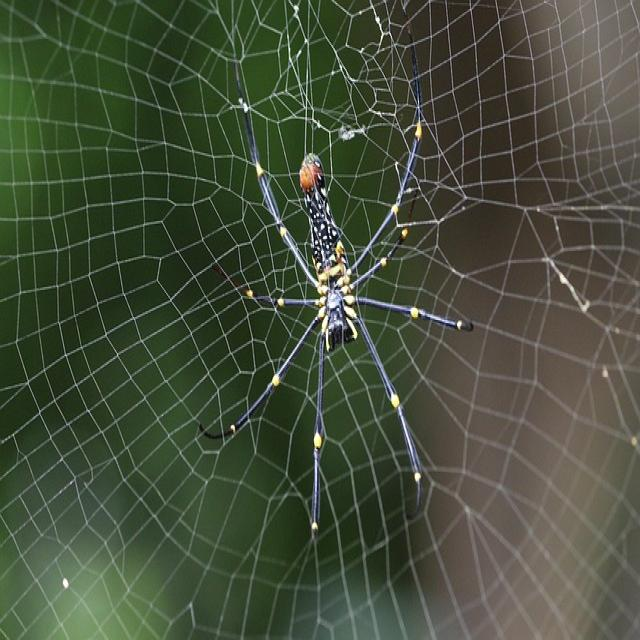spyder: (250, 77, 474, 536), (228, 326, 312, 434)
